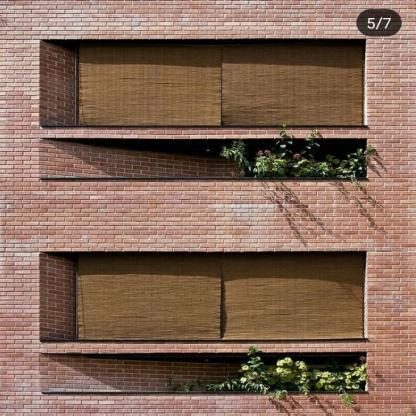Blind: (77, 251, 366, 340), (80, 39, 366, 125)
Building Outline: (0, 0, 416, 415)
Dont: (163, 344, 367, 411), (218, 127, 378, 192)
Facade: (0, 0, 416, 416)
Floor: (0, 0, 416, 210), (0, 222, 416, 416)
Floor Slab: (0, 210, 416, 223)
Window: (77, 251, 366, 340), (79, 39, 365, 125)
